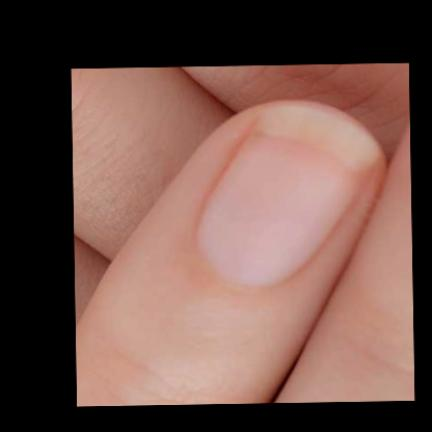Nail: (197, 103, 383, 287)
